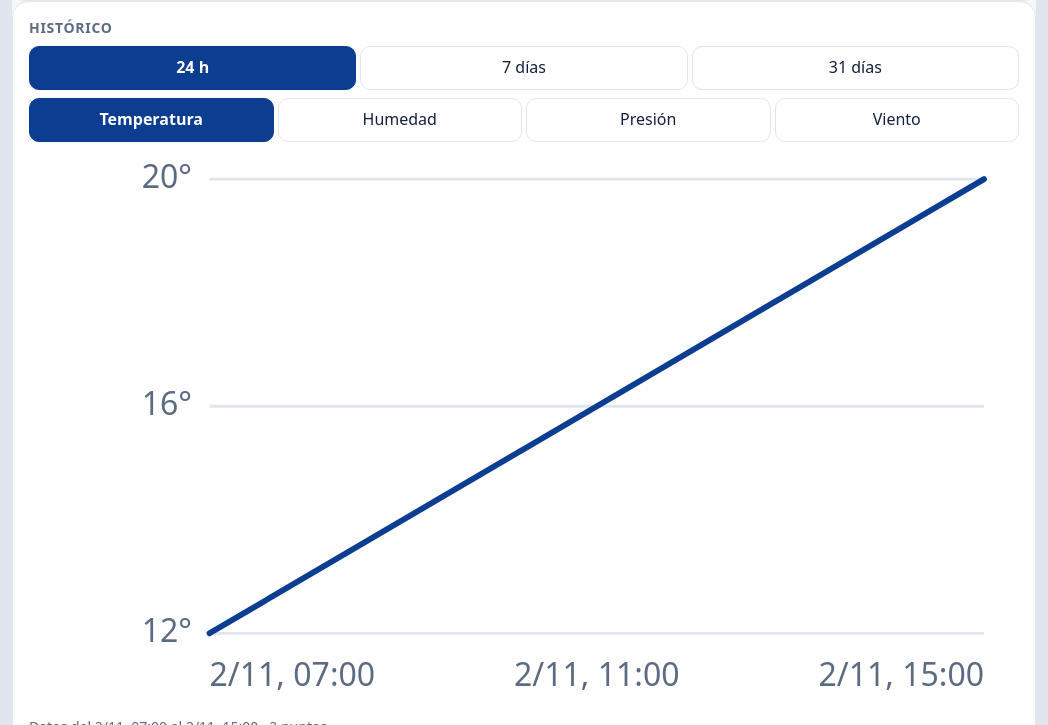
Test: HistoryScreen › en 7 y 31 días avisa cuando el histórico guardado es más corto que el período
Expected: the text "de datos guardados" is not shown
Click the button "7 días" at (524,68), box [360, 46, 688, 90]
(page scrolled)
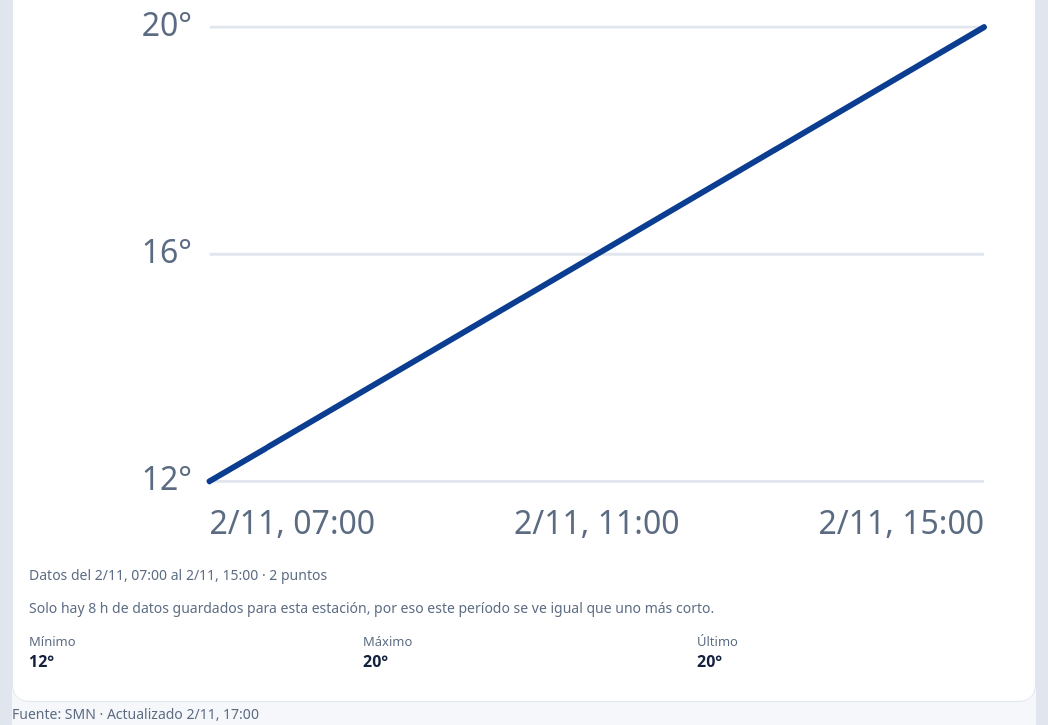
Expected: the text "Solo hay 8 h de datos guardados para esta estación" is shown, [29, 598, 714, 617]
